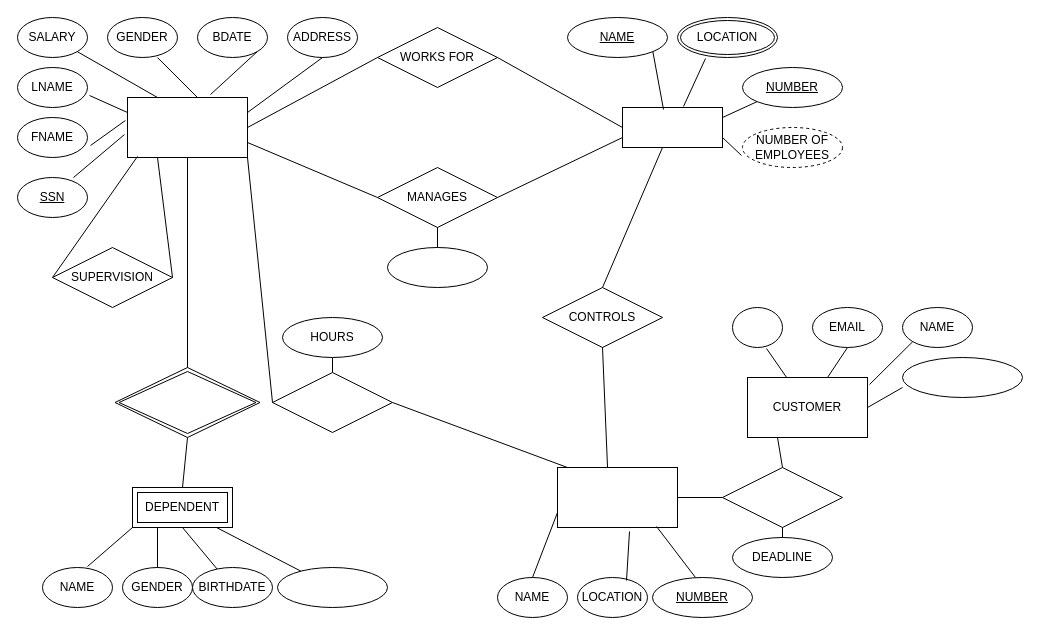
This 1040x635 diagram has some shape labels left out. The box of each missing label's shape, as (x1, y1, x2, y2) in pixels:
DEPARTMENT: (622, 106, 722, 148)
DEPENDENTS OF: (114, 366, 260, 438)
EMPLOYEE: (126, 96, 248, 158)
ID: (732, 306, 782, 348)
NEEDS: (722, 466, 842, 528)
PHONE NUMBER: (902, 356, 1022, 398)
PROJECT: (556, 466, 678, 528)
RELATIONSHIP: (276, 566, 388, 608)
START DATE: (386, 246, 488, 288)
WORKS ON: (272, 372, 392, 432)
